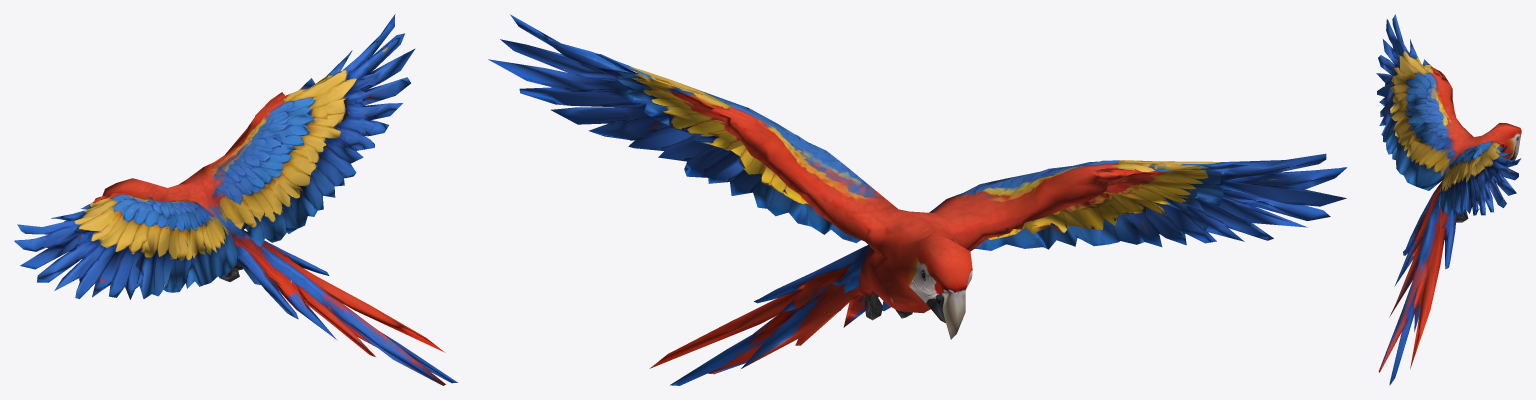
Rendered from fauna-ara.glb.
3 views of the same model, side by side, from view 1: azimuth 30°, elevation 25°; view 2: azimuth 150°, elevation 25°; view 3: azimuth 270°, elevation 25° (orthographic). The views are drawn at different scales.
Visible parts, largest first — view 1: tripo_node_a604392f-904b-4db2-8eeb-7a95af5aec13; view 2: tripo_node_a604392f-904b-4db2-8eeb-7a95af5aec13; view 3: tripo_node_a604392f-904b-4db2-8eeb-7a95af5aec13.
Part boxes in pixels (<box>): tripo_node_a604392f-904b-4db2-8eeb-7a95af5aec13: <box>14,14,457,385</box>; tripo_node_a604392f-904b-4db2-8eeb-7a95af5aec13: <box>488,14,1346,385</box>; tripo_node_a604392f-904b-4db2-8eeb-7a95af5aec13: <box>1376,14,1521,385</box>.
Size of the model in its own units: 0.9999 by 0.5951 by 0.3332.
Materials: 1 (1 with a texture image).
